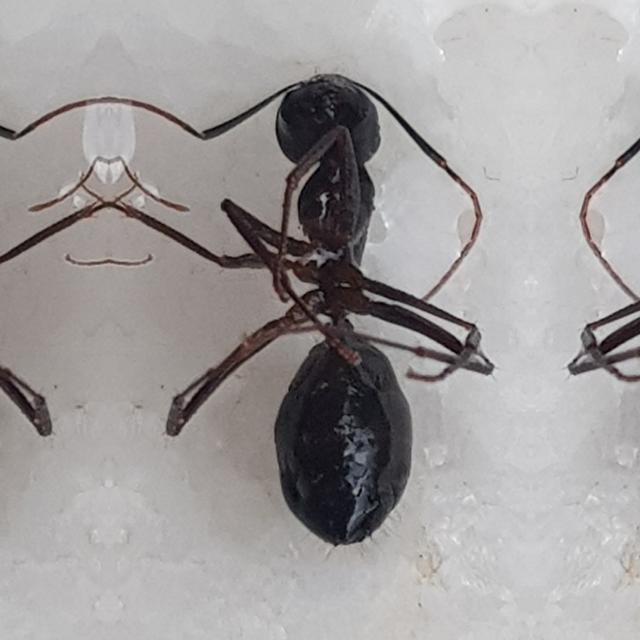Camponotus: (181, 17, 493, 607), (566, 17, 640, 607)
